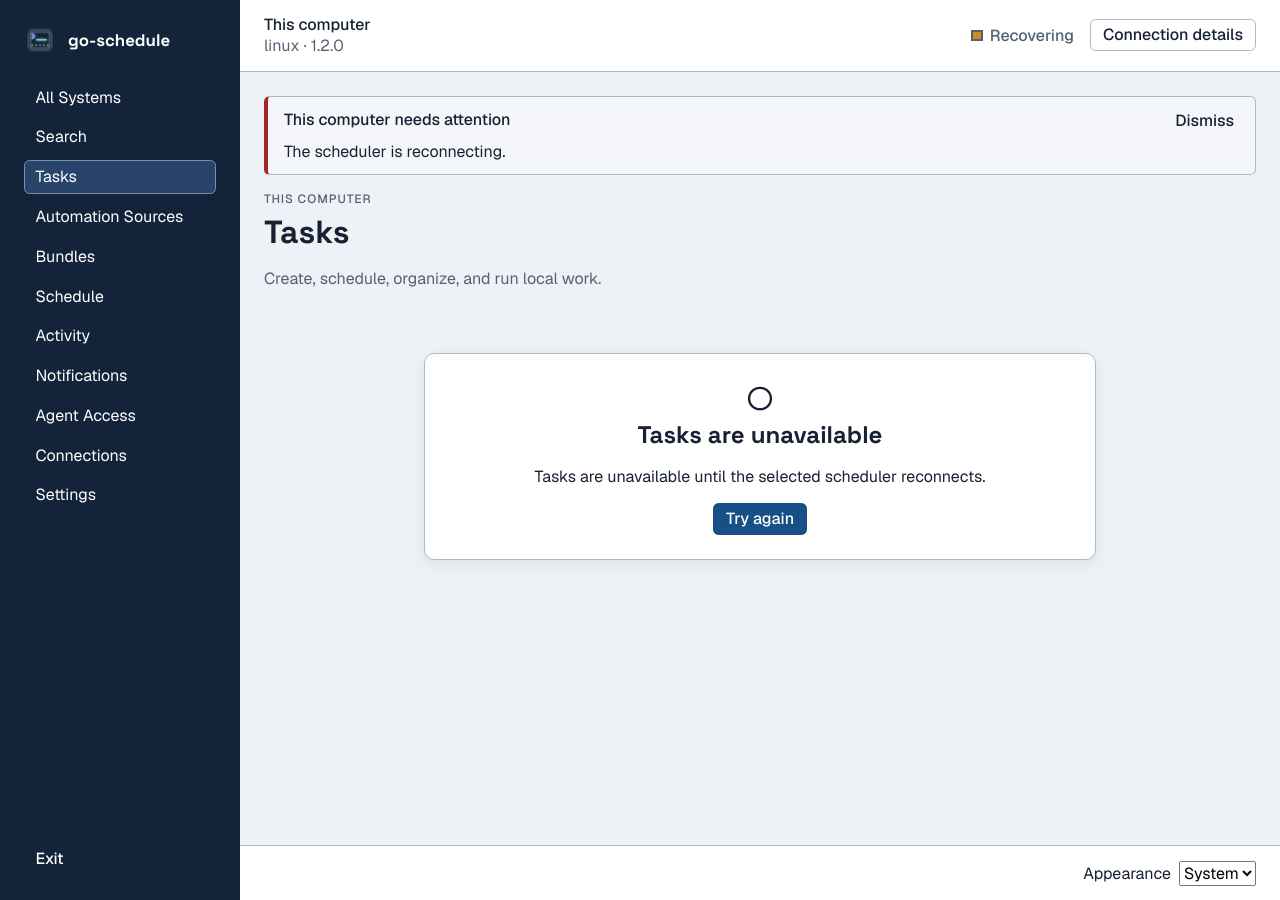
Test: production shell › restores a dismissed connection warning when the snapshot changes
This screenshot has width=1280, height=900.
Check: the text "The scheduler is reconnecting." is shown, box [284, 141, 505, 162]
Click the button with aria-label "Dismiss This computer needs attention" at (1205, 121), box [1162, 105, 1247, 137]
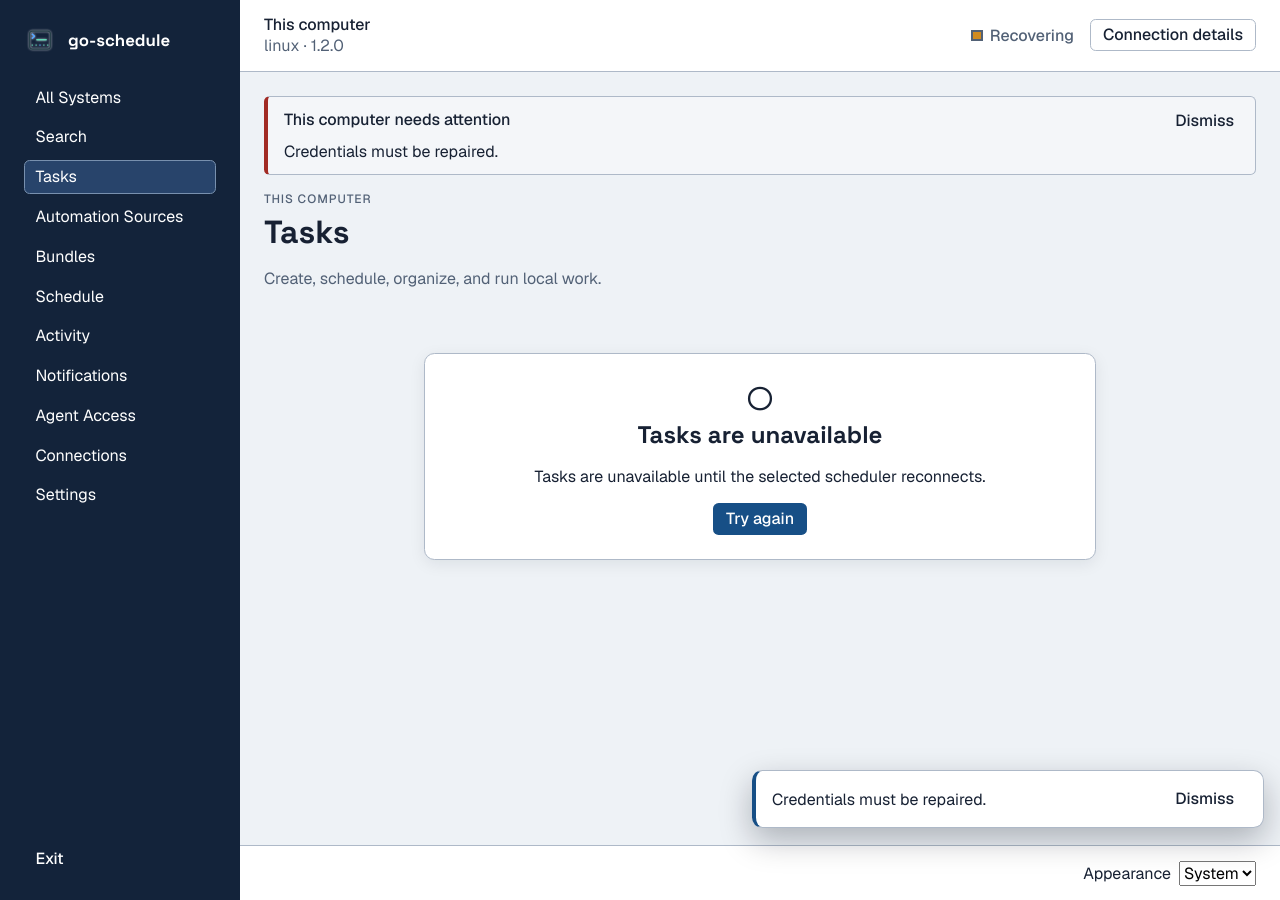
Check: the message "This computer needs attention Dismiss Credentials must be repaired." is shown, box [264, 96, 1256, 175]
